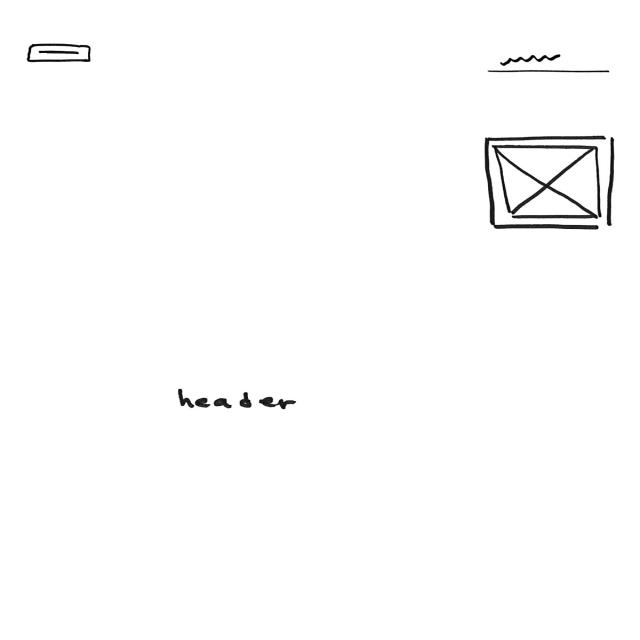container: (484, 132, 615, 230)
icon-button: (27, 42, 93, 64)
image: (492, 144, 602, 219)
input: (486, 52, 612, 74)
label: (174, 389, 300, 411)
